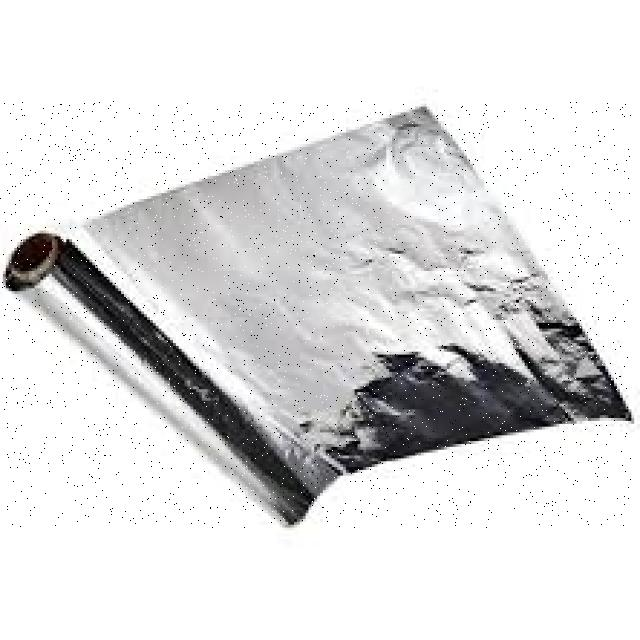metal: (0, 101, 631, 527)
